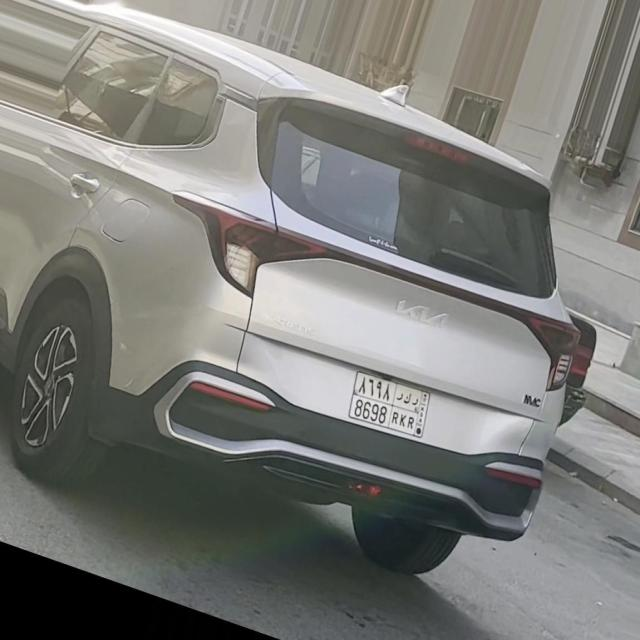Car-plate: (337, 352, 445, 451)
